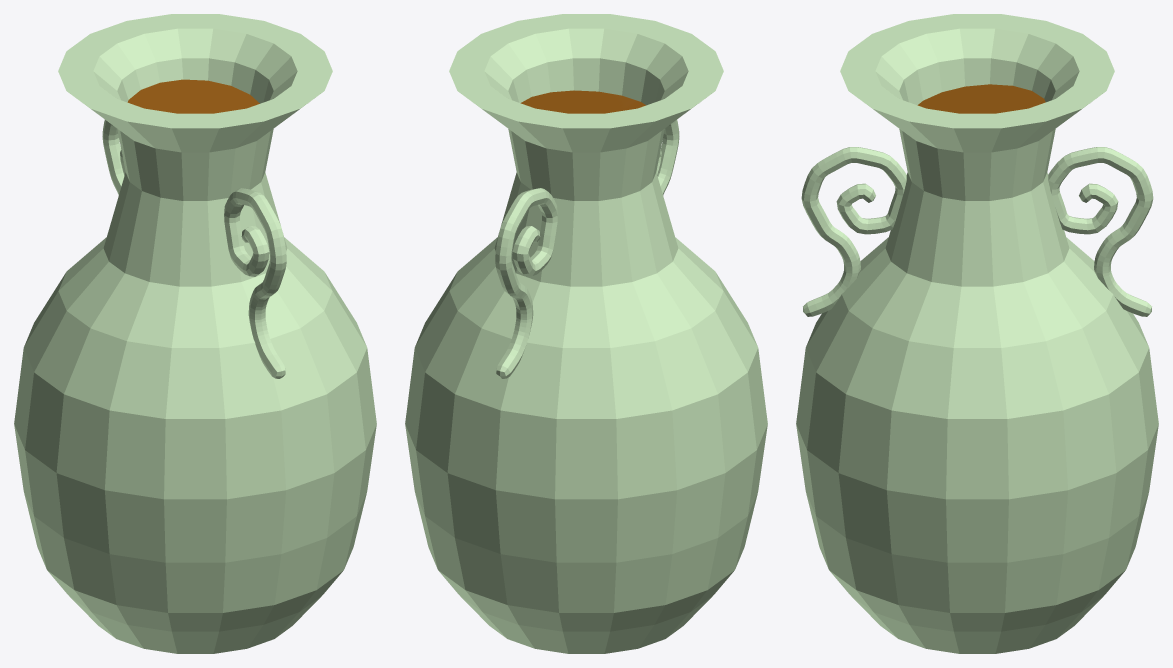
The model's file is Ruins_3a.fbx.
3 views of the same model, side by side, from view 1: azimuth 30°, elevation 25°; view 2: azimuth 150°, elevation 25°; view 3: azimuth 270°, elevation 25° (orthographic).
Parts seen in each view (by area): view 1: Plane; view 2: Plane; view 3: Plane.
Part boxes in pixels (box(x1,y1,x2,y2)): Plane: box(14, 14, 376, 653); Plane: box(405, 14, 767, 653); Plane: box(796, 14, 1158, 653).
Size of the model in its own units: 93.19 by 155 by 94.63.
